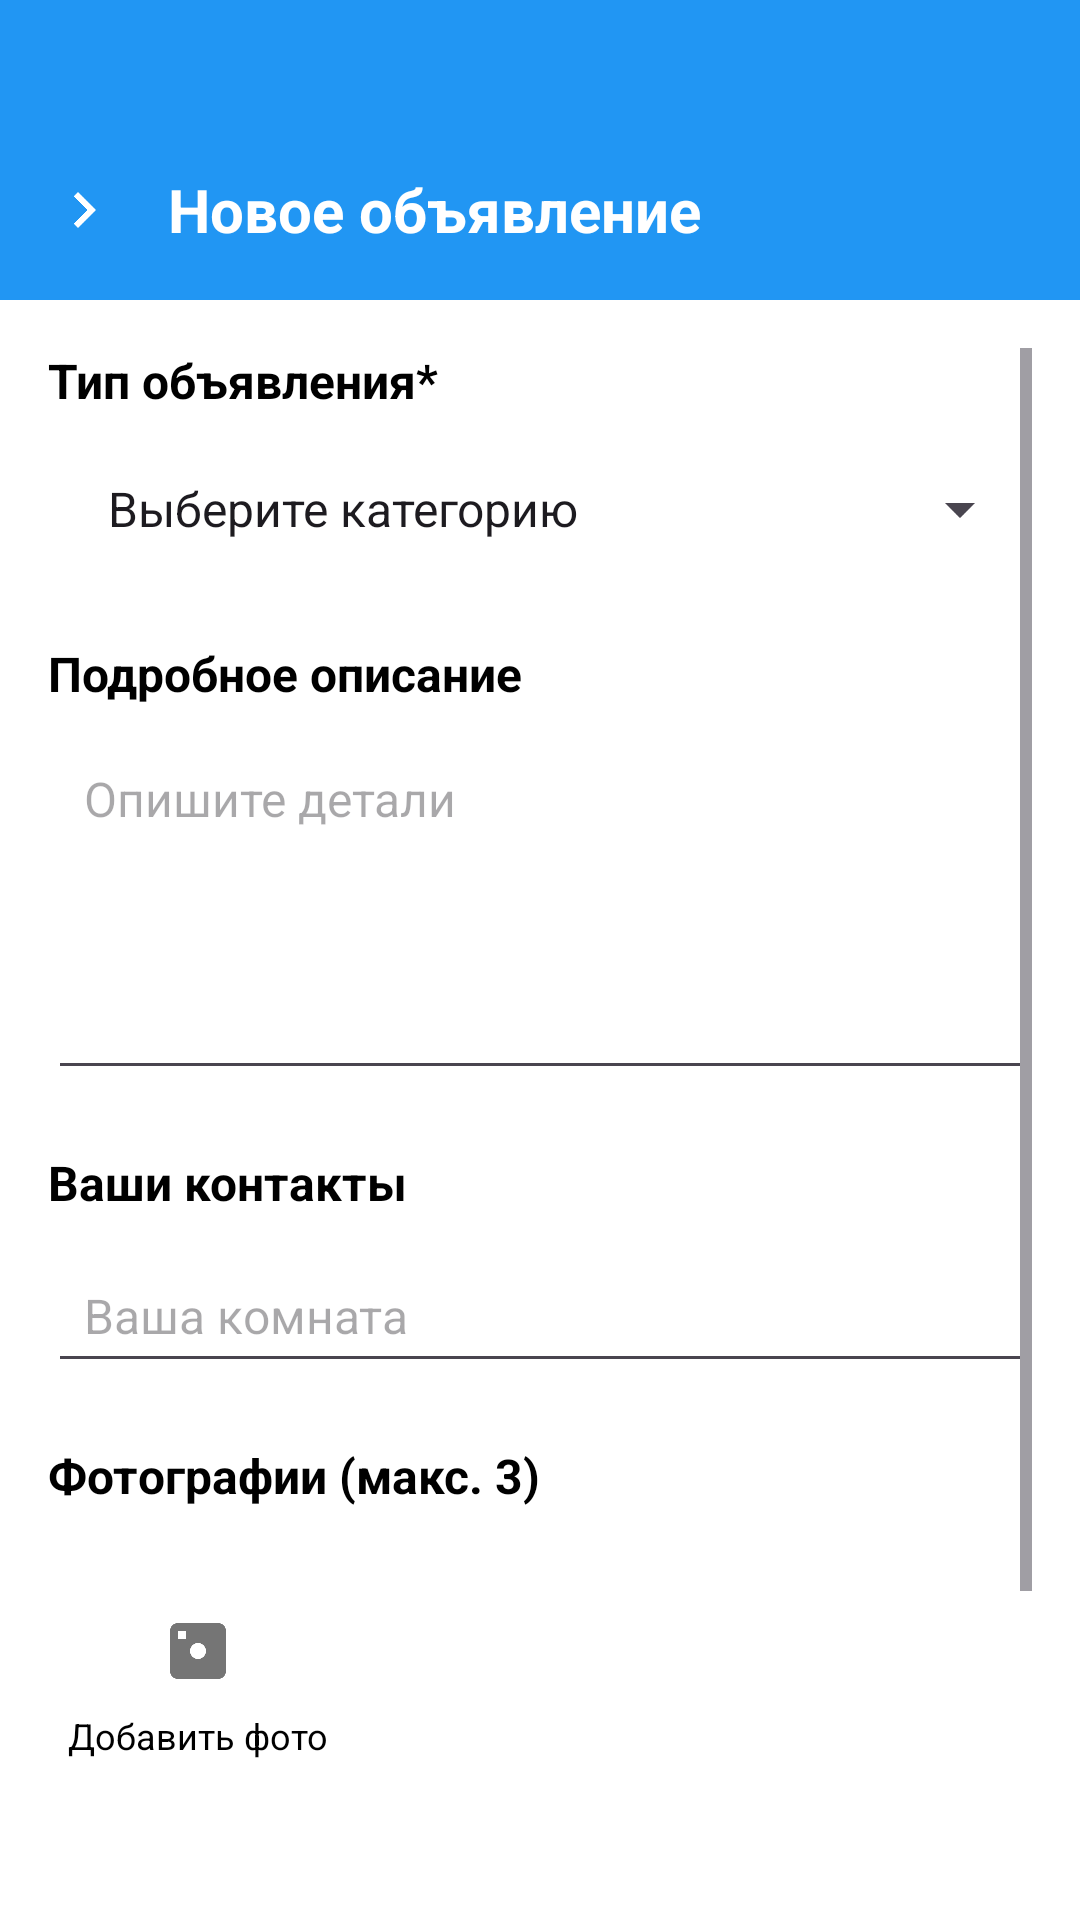

Where icons sit on this 1080 × 1920 app screen, as (x1, y1, x2, y2):
arrow right: (74, 192, 96, 228)
camera: (170, 1623, 226, 1679)
